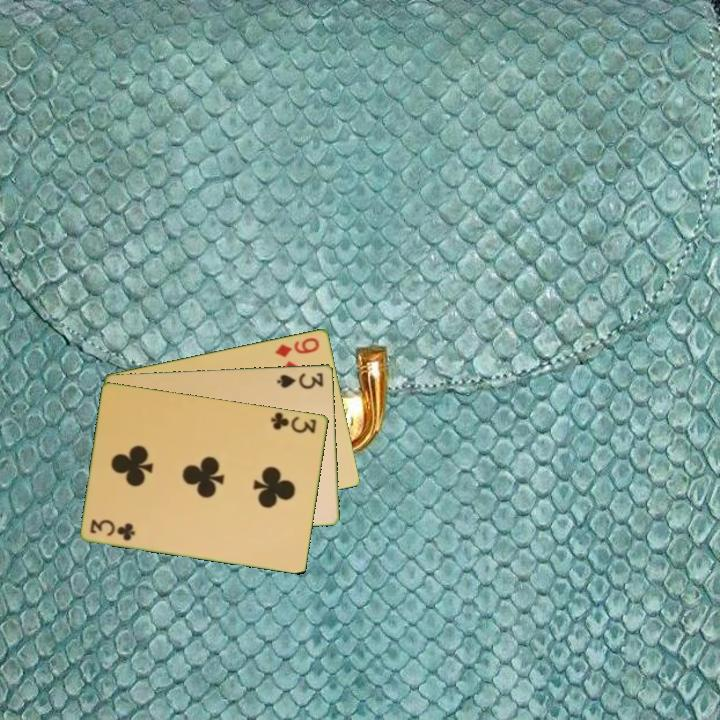3c: (268, 408, 319, 436), (87, 516, 139, 543)
3s: (274, 369, 327, 391)
9d: (271, 334, 323, 360)
